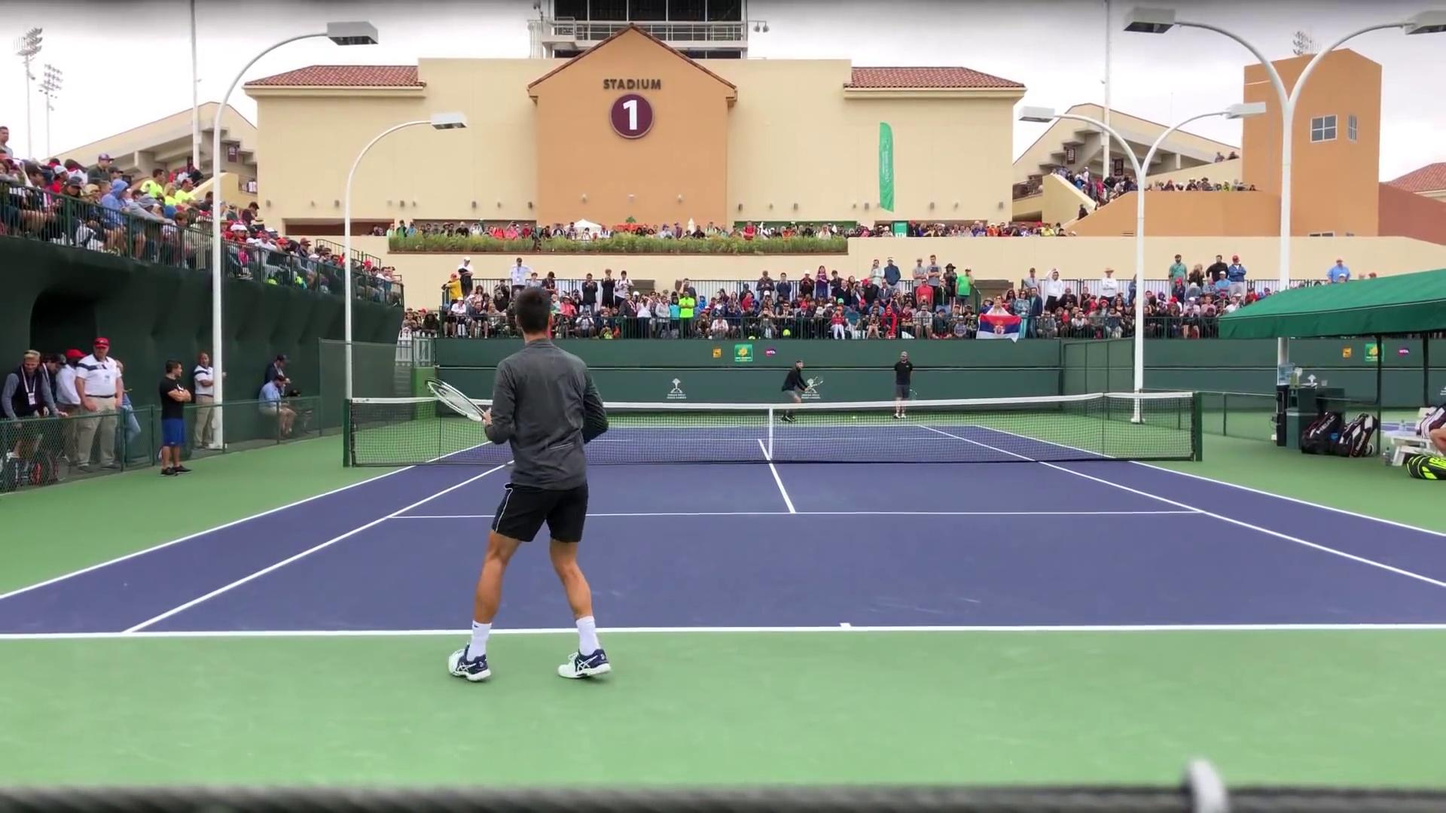ball: (847, 411, 862, 426)
